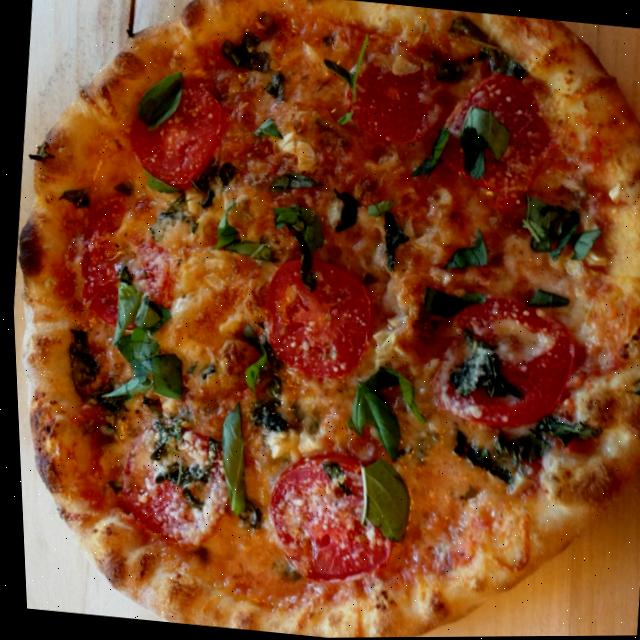basil: (99, 329, 187, 407), (342, 382, 403, 461), (208, 400, 251, 512), (354, 456, 409, 542), (133, 66, 185, 132), (104, 267, 139, 344), (129, 296, 162, 337)
pizza: (0, 0, 640, 640)
tomatoes: (423, 289, 583, 434), (253, 443, 399, 591), (107, 414, 234, 556), (427, 65, 558, 201), (67, 190, 179, 337), (255, 252, 380, 383), (120, 76, 229, 192), (338, 53, 447, 145)
